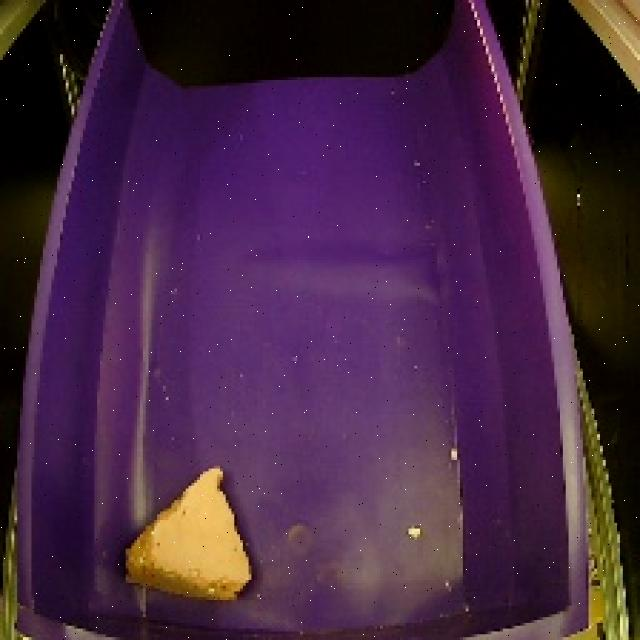brick: (110, 455, 261, 614)
